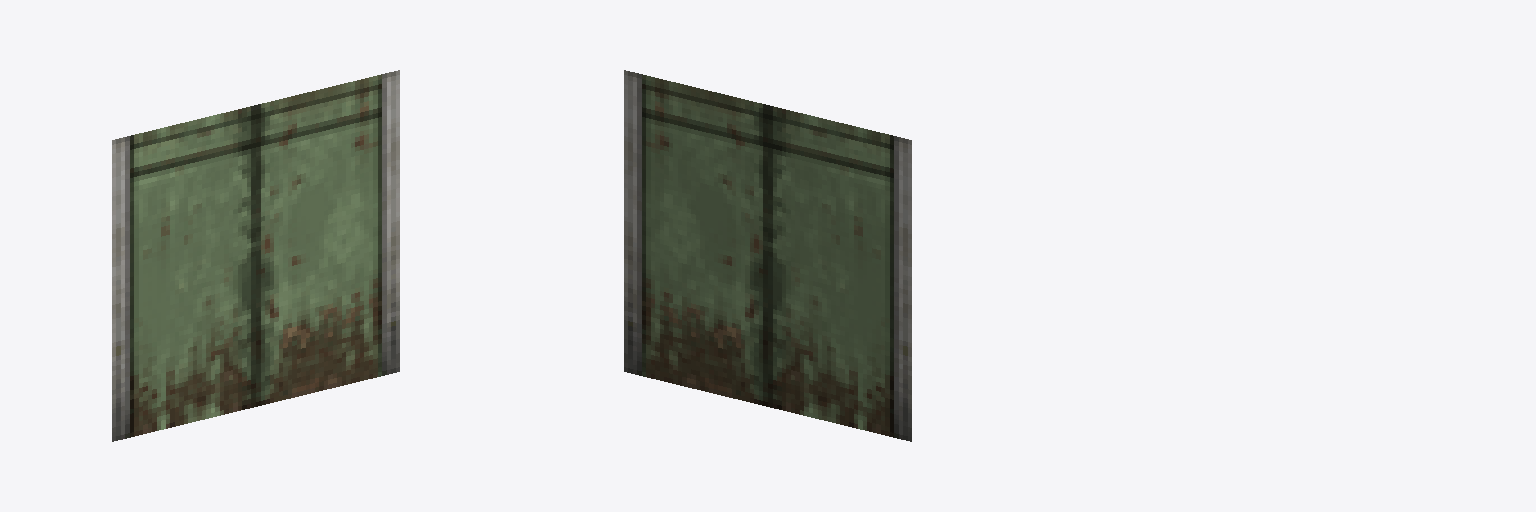
The picture shows the model from 3 angles: view 1: azimuth 30°, elevation 25°; view 2: azimuth 150°, elevation 25°; view 3: azimuth 270°, elevation 25°; orthographic projection.
Parts seen in each view (by area): view 1: wallB_flat; view 2: wallB_flat; view 3: none.
Boxes of the visible parts, box(x1,y1,x2,y2) form: wallB_flat: box(112, 70, 399, 441); wallB_flat: box(624, 70, 911, 441).
Size of the model in its own units: 1 by 1 by 0.
1 materials, 1 textured.